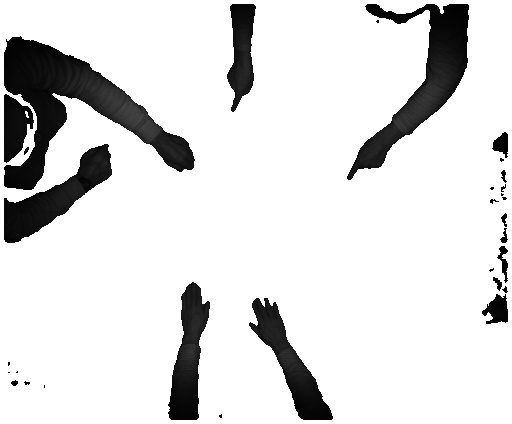fist: (74, 144, 111, 189)
hand: (176, 280, 215, 338), (344, 137, 393, 183), (248, 296, 291, 348), (159, 134, 199, 175), (224, 64, 255, 111)
